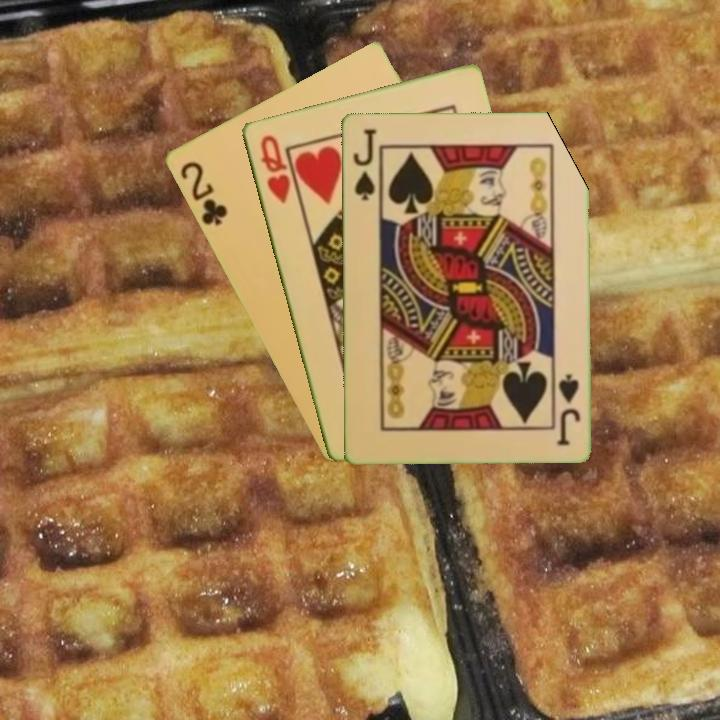2c: (176, 158, 230, 229)
Js: (349, 125, 379, 203), (554, 370, 582, 448)
Qh: (256, 131, 293, 206)
